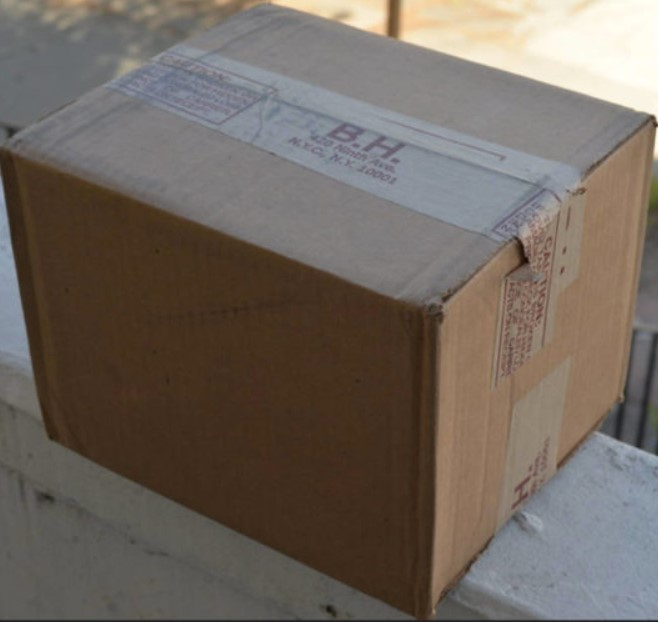stock: (5, 13, 656, 610)
